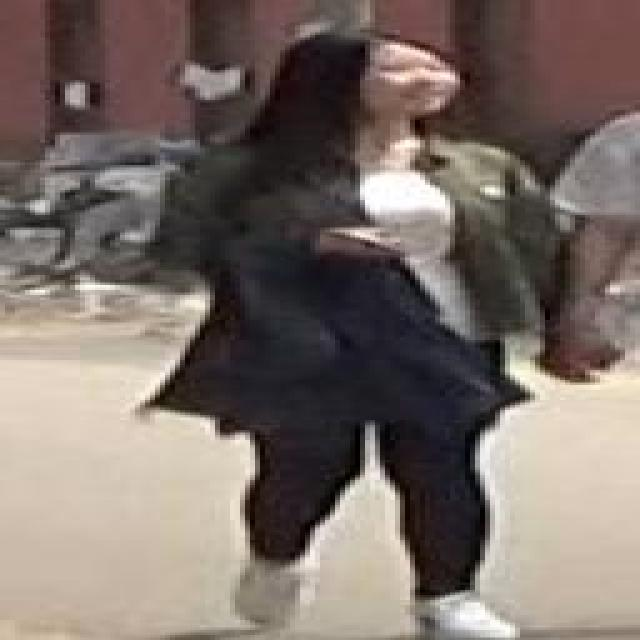adult: (145, 25, 570, 640)
